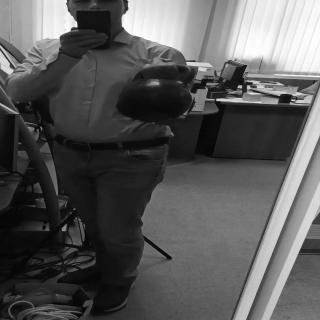kettlebell: (118, 61, 203, 127)
